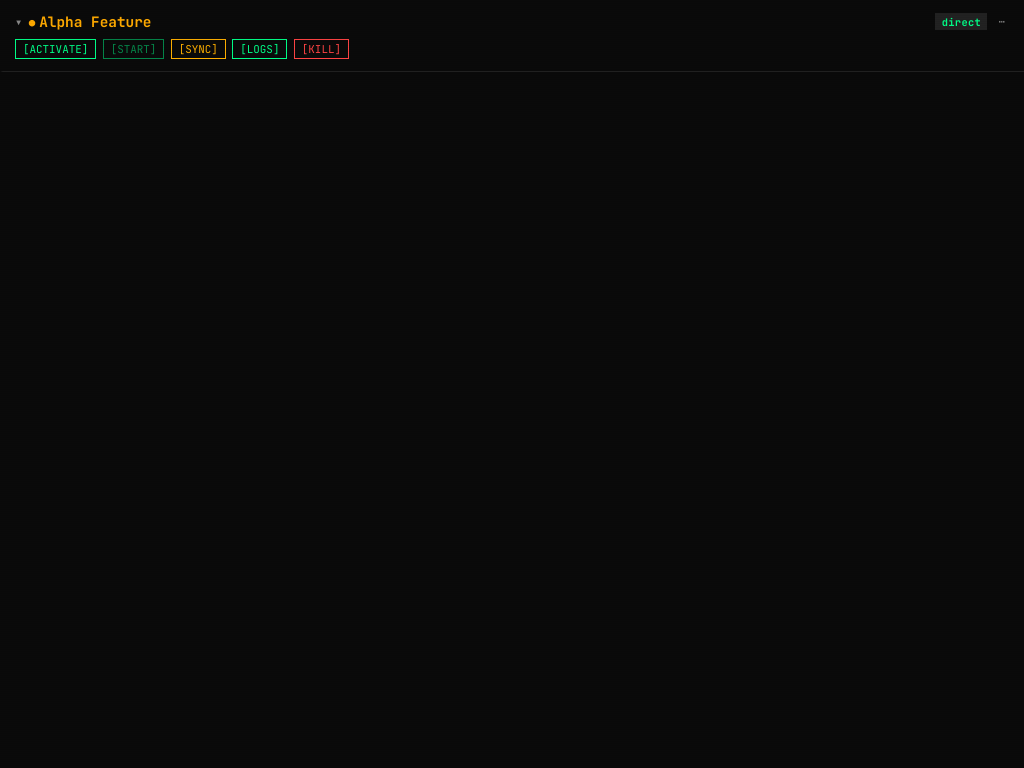
Test: FeatureCard — config menu › clicking ⋯ opens a modal titled with the feature displayName
The image size is (1024, 768).
What coordinates should you click on to do the following:
click the button named "Open Alpha Feature configuration"
I would click on:
 (1002, 22)
Its box is [991, 14, 1012, 29].
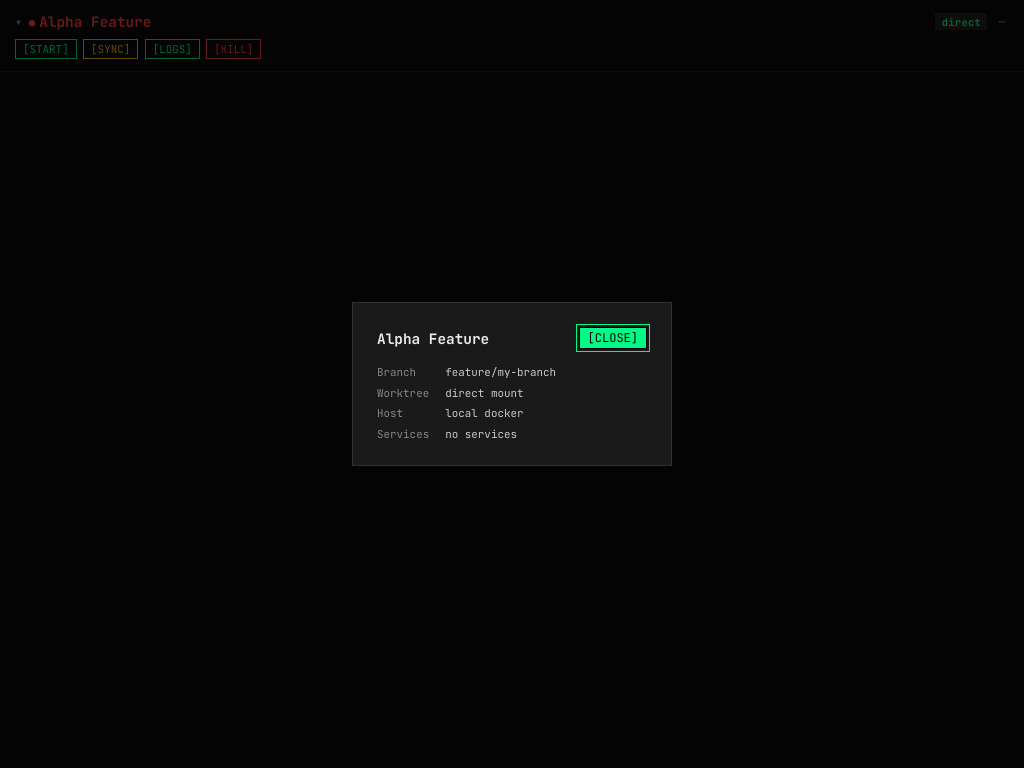
Result: the dialog is shown
Result: the heading "Alpha Feature" is shown at [377, 329, 489, 348]
